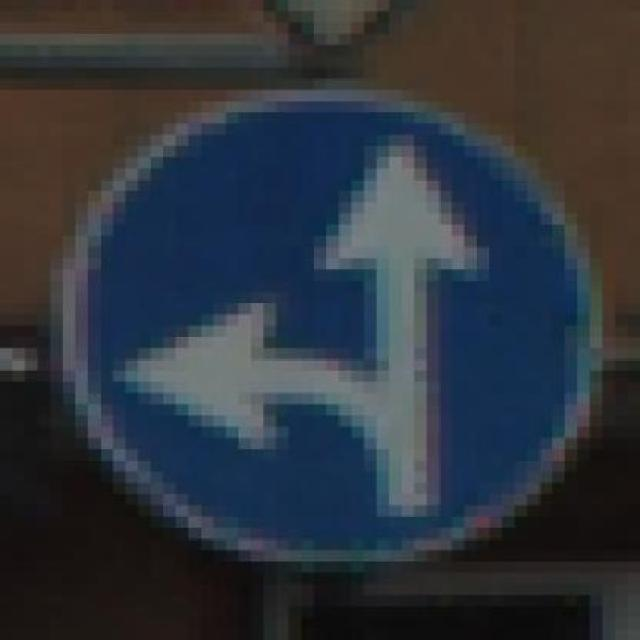Go straight or turn left: (50, 78, 602, 572)
